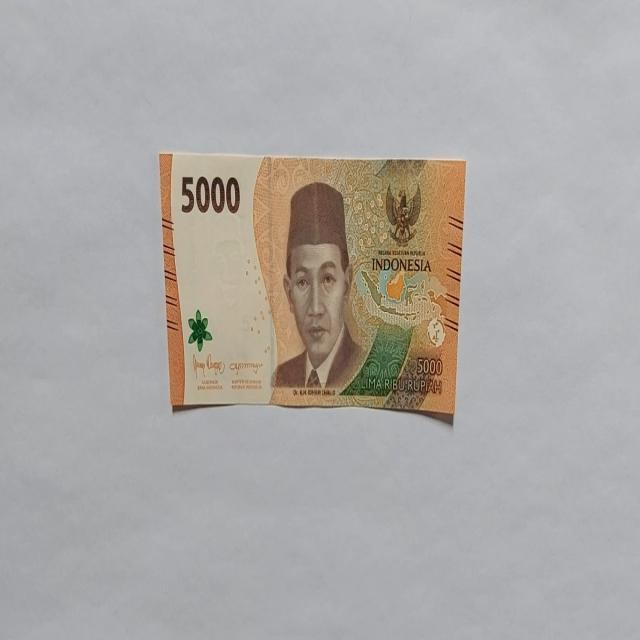lima ribu rupiah: (158, 150, 466, 420), (270, 180, 366, 393)
